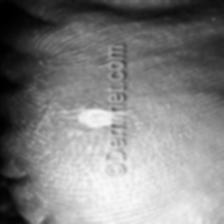Toxin: (69, 104, 119, 135)
